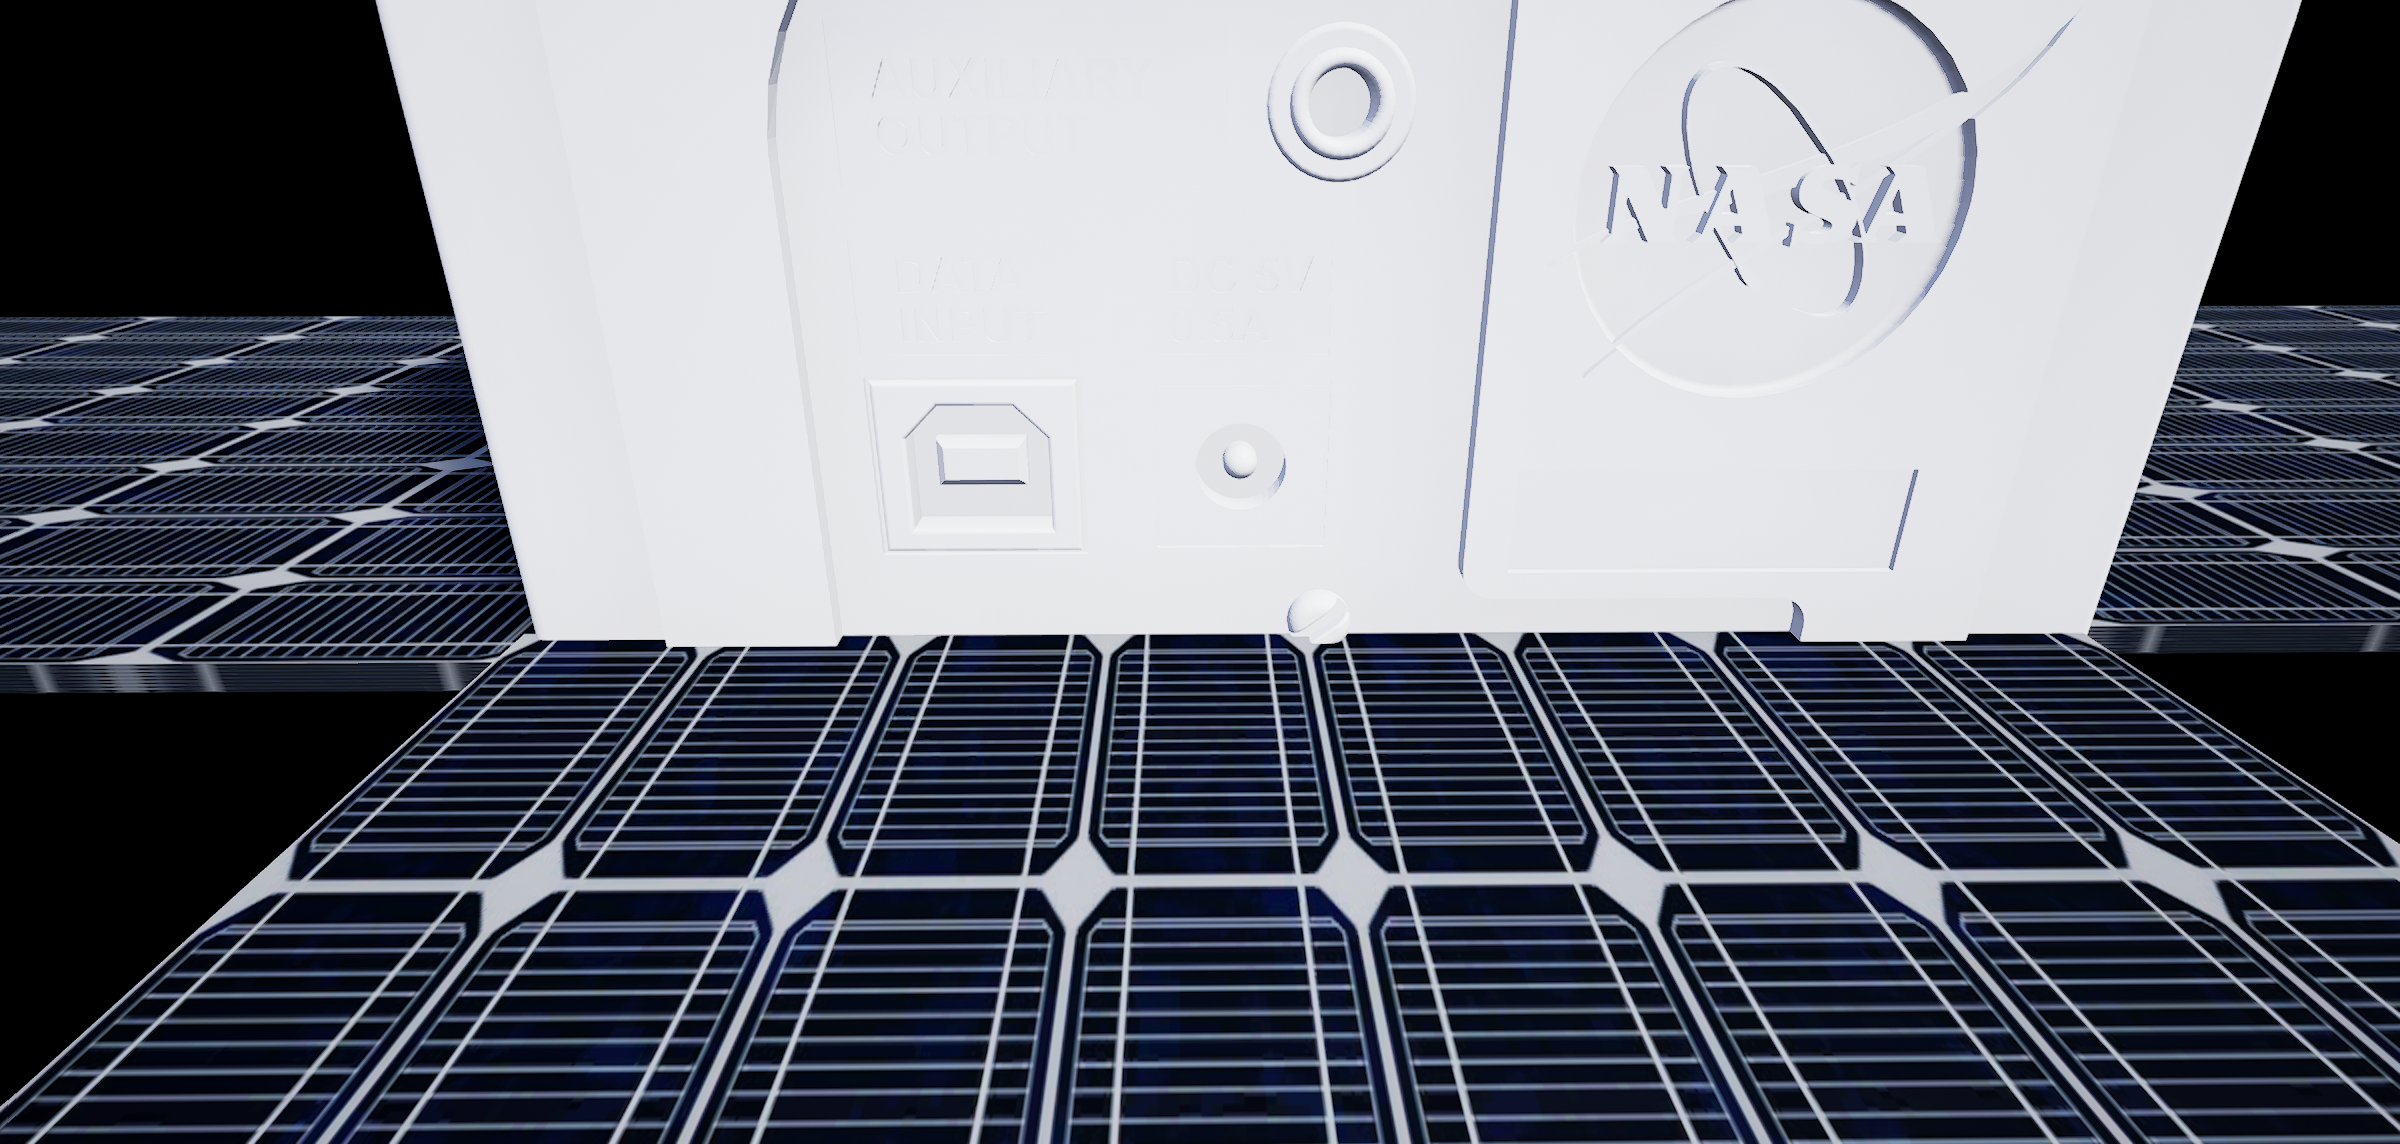aux: (1257, 18, 1433, 217)
dc: (1185, 410, 1306, 528)
usb: (888, 397, 1062, 541)
